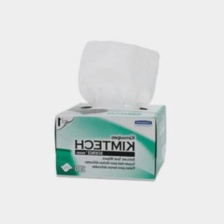book: (49, 95, 175, 186)
tissue: (73, 33, 164, 114)
